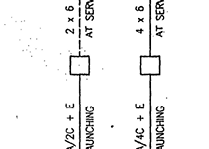Cable Termination Box: (62, 49, 100, 82), (136, 50, 167, 80)
